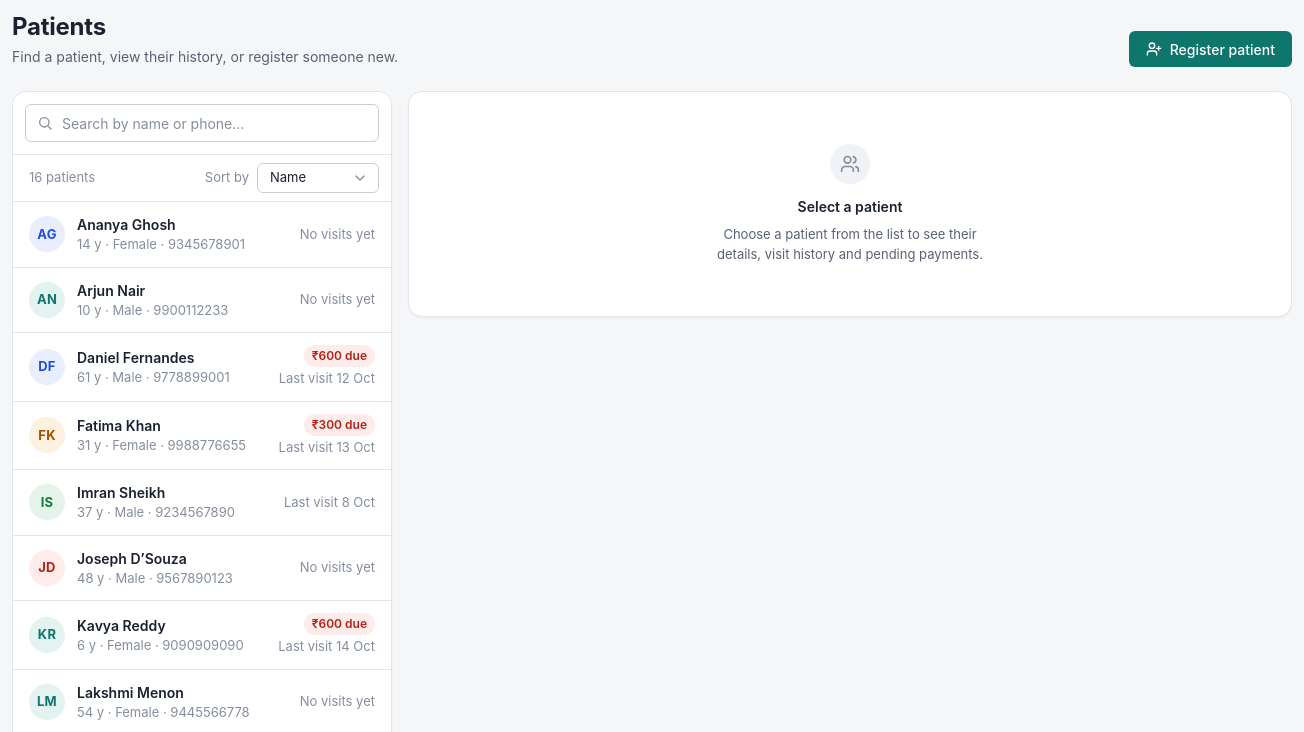
Test case: PatientsPage › searches by name and offers registration when nothing matches
Expected: the text "16 patients" is shown, [29, 168, 95, 188]
Type "meera" into the search field named "search patients" at (202, 123), box [25, 104, 379, 142]
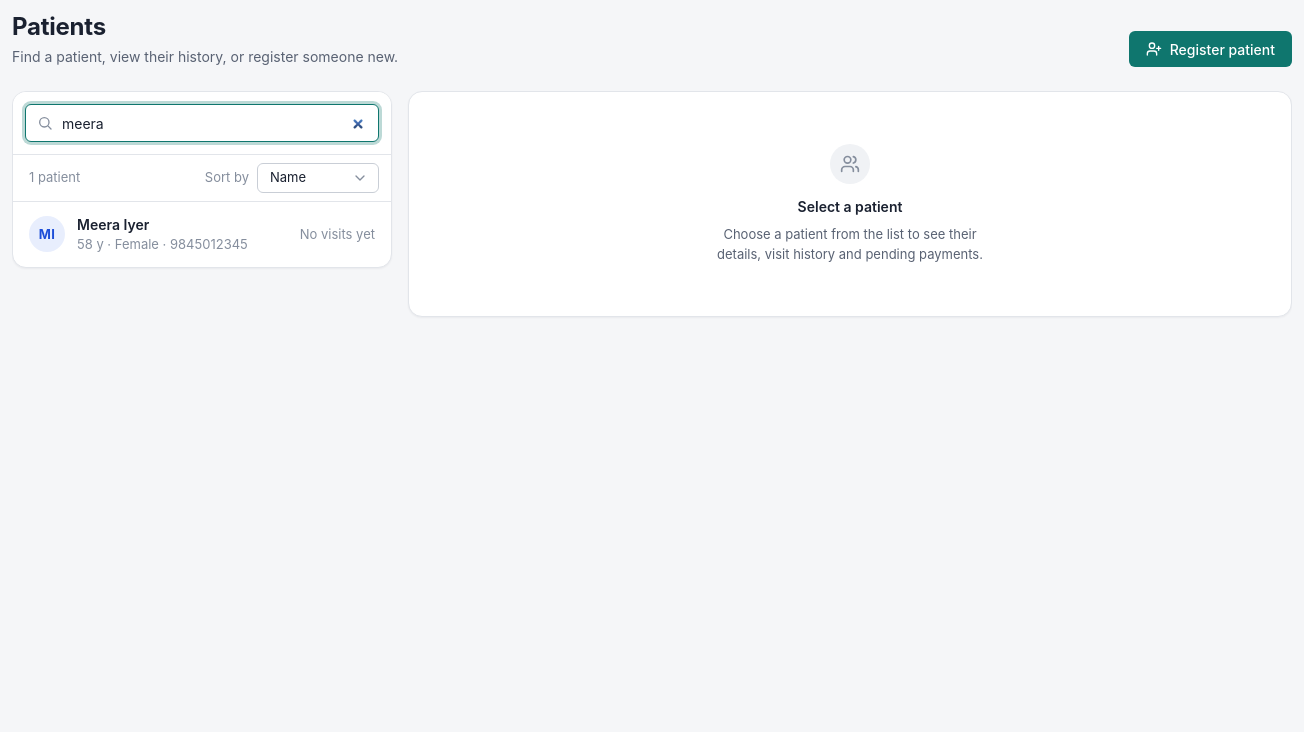
Replace the text in the search field named "search patients" with "nobody here" at (202, 123), box [25, 104, 379, 142]
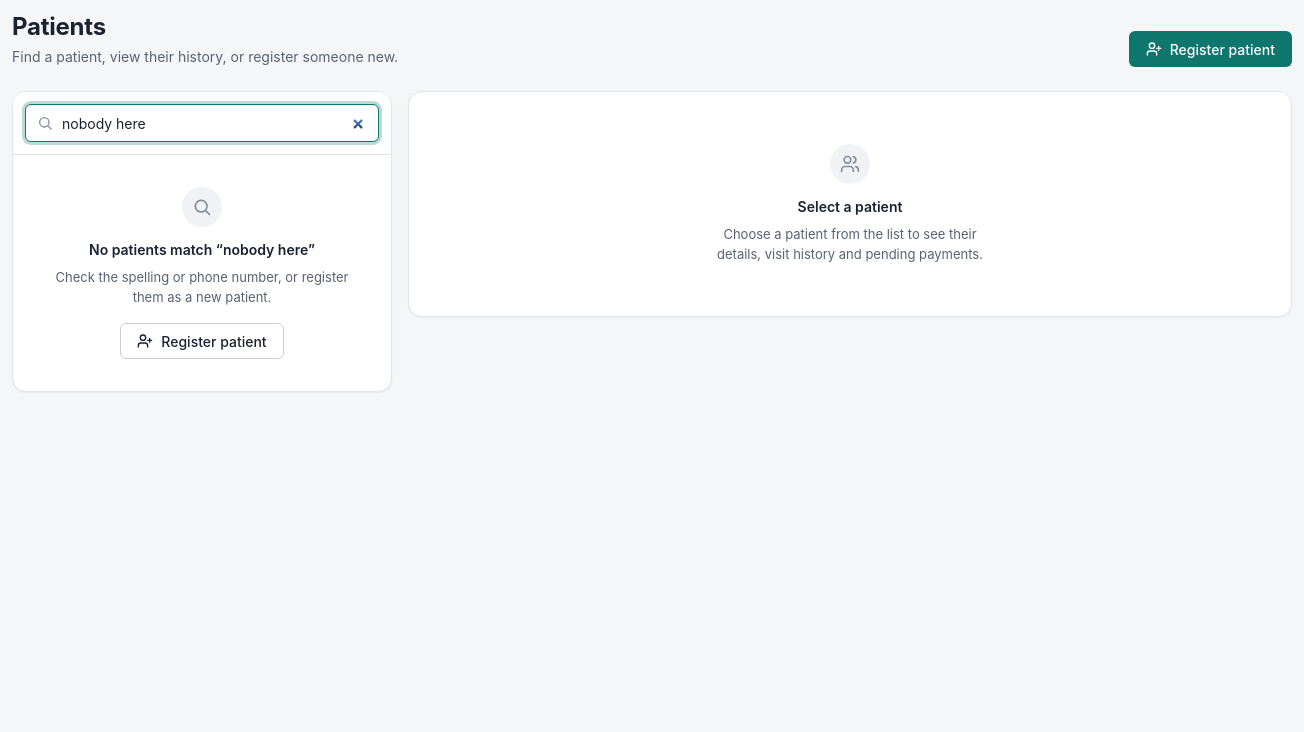
Expected: the text "No patients match “nobody here”" is shown, [89, 239, 315, 260]
Expected: the number of buttons "Register patient" is 2, [1129, 31, 1292, 67]; [120, 323, 284, 359]
